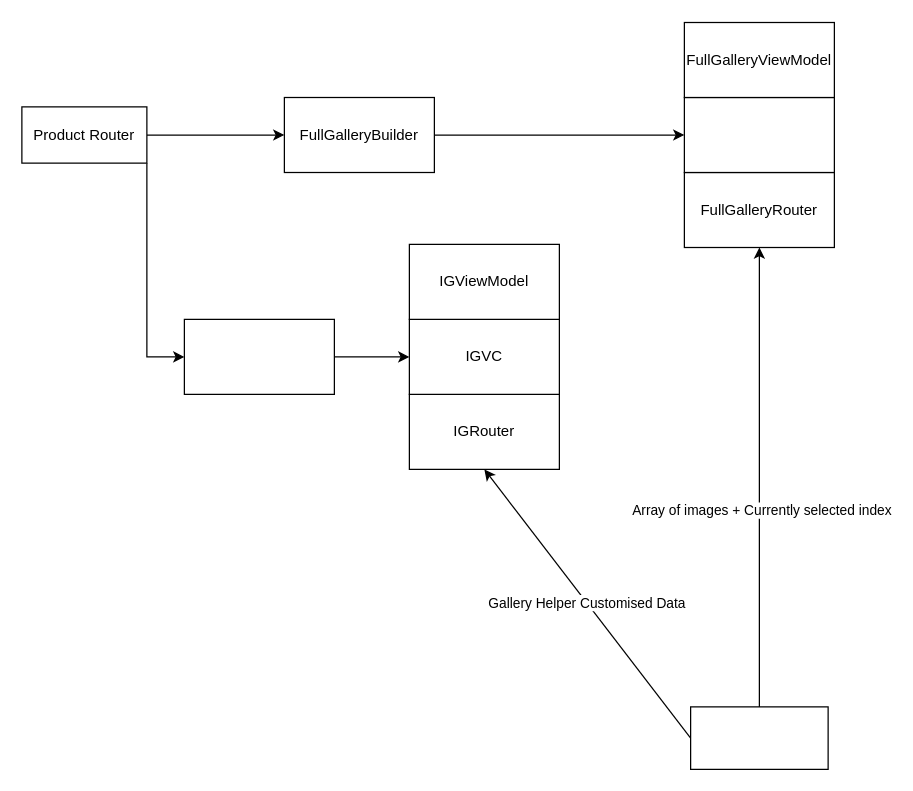
Some shapes in this 913 by 791 pixel diagram are drawn without their labels. Here are the shapes that lost their labels. From the top down, the centre of each, then its label:
the point at 758,134: FullGalleryVC
the point at 258,356: Intermediate Gallery Builder
the point at 758,737: «GalleryHelper»
